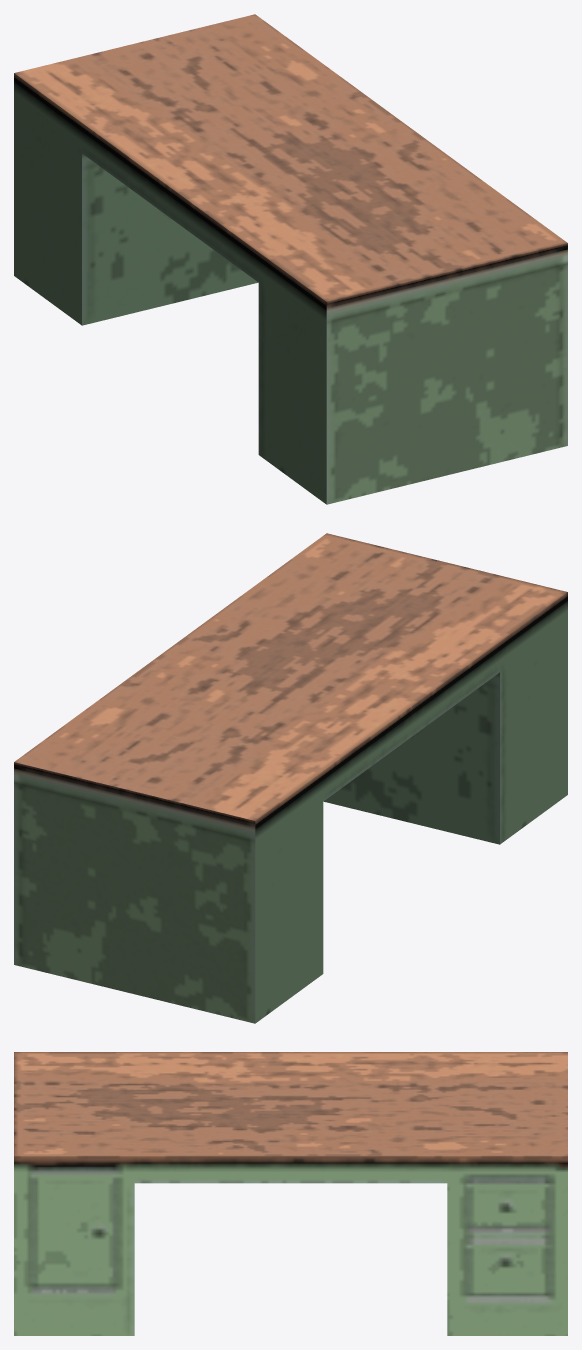
The model's file is Desk.fbx.
3 renders of one model, top to bottom at view 1: azimuth 30°, elevation 25°; view 2: azimuth 150°, elevation 25°; view 3: azimuth 270°, elevation 25°, orthographic. The views are drawn at different scales.
Visible parts, largest first — view 1: polySurface428; view 2: polySurface428; view 3: polySurface428.
Boxes of the visible parts, box(x1,y1,x2,y2) form: polySurface428: box(14, 14, 567, 504); polySurface428: box(14, 533, 567, 1023); polySurface428: box(14, 1052, 567, 1335).
Size of the model in its own units: 119 by 95.26 by 266.
